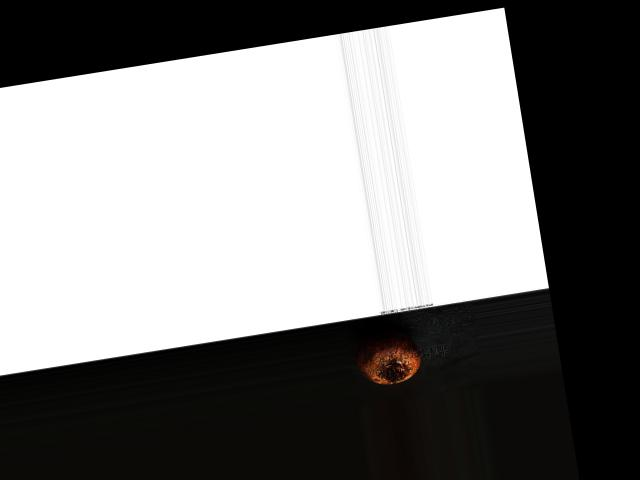beet: (350, 323, 423, 388)
